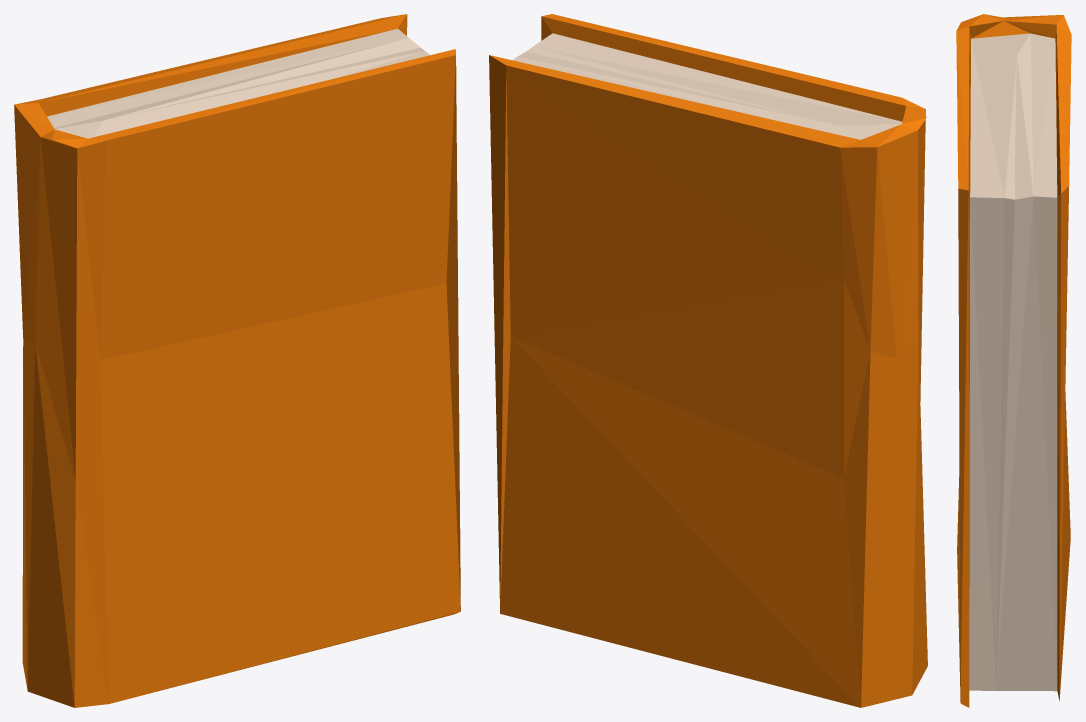
File: SFFA_Book_003.fbx
3 renders of one model, left to right at view 1: azimuth 30°, elevation 25°; view 2: azimuth 150°, elevation 25°; view 3: azimuth 270°, elevation 25°, orthographic. The views are drawn at different scales.
Parts seen in each view (by area): view 1: SFFA_Book_003; view 2: SFFA_Book_003; view 3: SFFA_Book_003.
Part boxes in pixels (x1,y1,x2,y2): SFFA_Book_003: [14, 14, 460, 707]; SFFA_Book_003: [489, 14, 927, 707]; SFFA_Book_003: [956, 14, 1071, 707].
Bounding box in the file's own units: 18.29 × 24.61 × 4.95.
